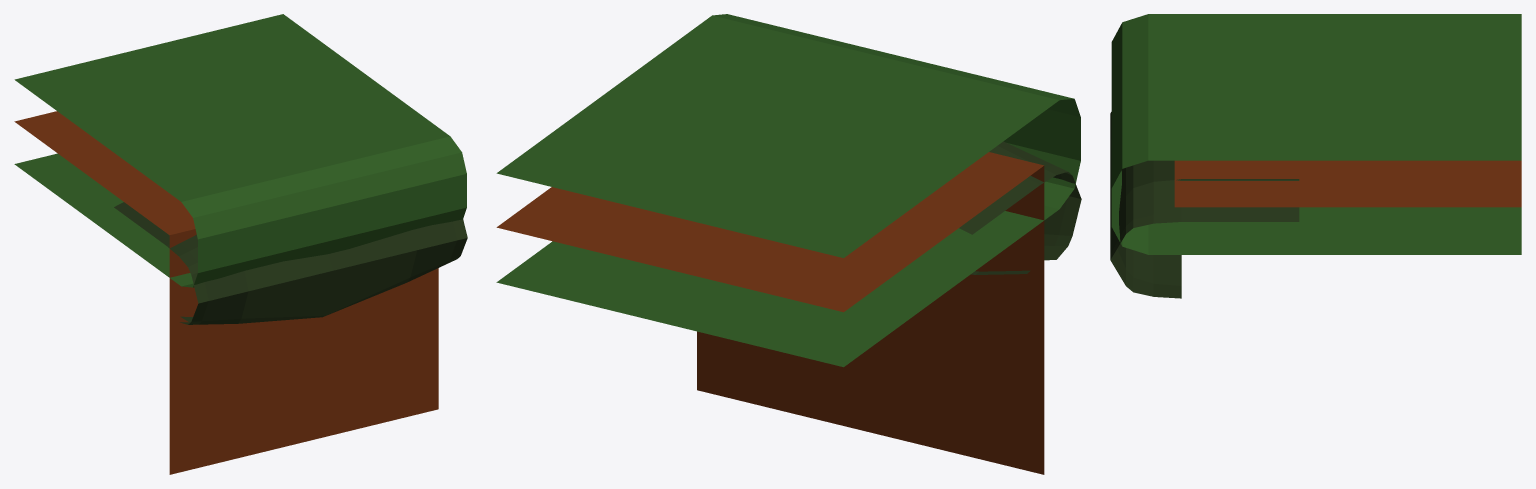
Rendered from FrontUpMiddle.fbx.
The picture shows the model from 3 angles, left to right: view 1: azimuth 30°, elevation 25°; view 2: azimuth 150°, elevation 25°; view 3: azimuth 270°, elevation 25°; orthographic projection. The views are drawn at different scales.
Parts seen in each view (by area): view 1: FrontUpMiddle; view 2: FrontUpMiddle; view 3: FrontUpMiddle.
Boxes of the visible parts, <box> form: FrontUpMiddle: <box>14,14,467,474</box>; FrontUpMiddle: <box>496,14,1081,474</box>; FrontUpMiddle: <box>1110,14,1521,298</box>.
Size of the model in its own units: 200 by 200 by 237.
